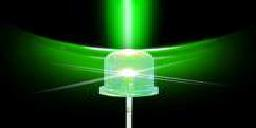LED: (83, 41, 169, 128)
